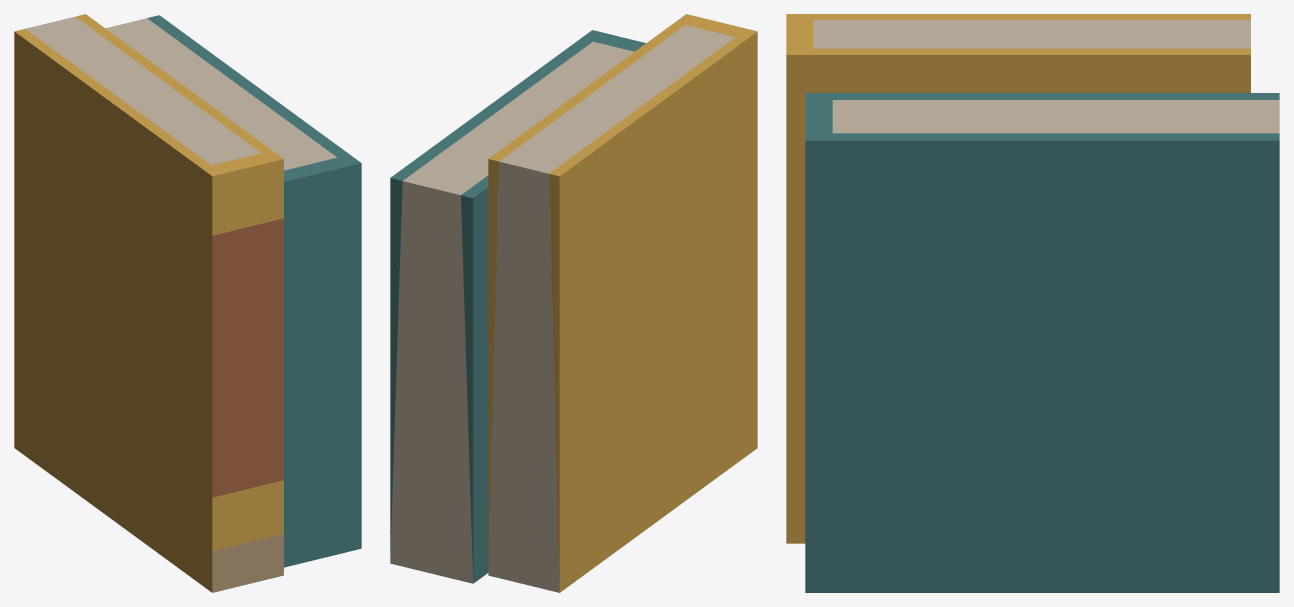
Rendered from SM_Prop_Book_Group_09.fbx.
3 renders of one model, left to right at view 1: azimuth 30°, elevation 25°; view 2: azimuth 150°, elevation 25°; view 3: azimuth 270°, elevation 25°, orthographic. The views are drawn at different scales.
Parts seen in each view (by area): view 1: SM_Prop_Book_Group_09; view 2: SM_Prop_Book_Group_09; view 3: SM_Prop_Book_Group_09.
Boxes of the visible parts, x1=… form: SM_Prop_Book_Group_09: x1=14, y1=14, x2=361, y2=592; SM_Prop_Book_Group_09: x1=390, y1=14, x2=757, y2=592; SM_Prop_Book_Group_09: x1=786, y1=14, x2=1279, y2=592.
Size of the model in its own units: 13.15 by 33.28 by 30.45.
